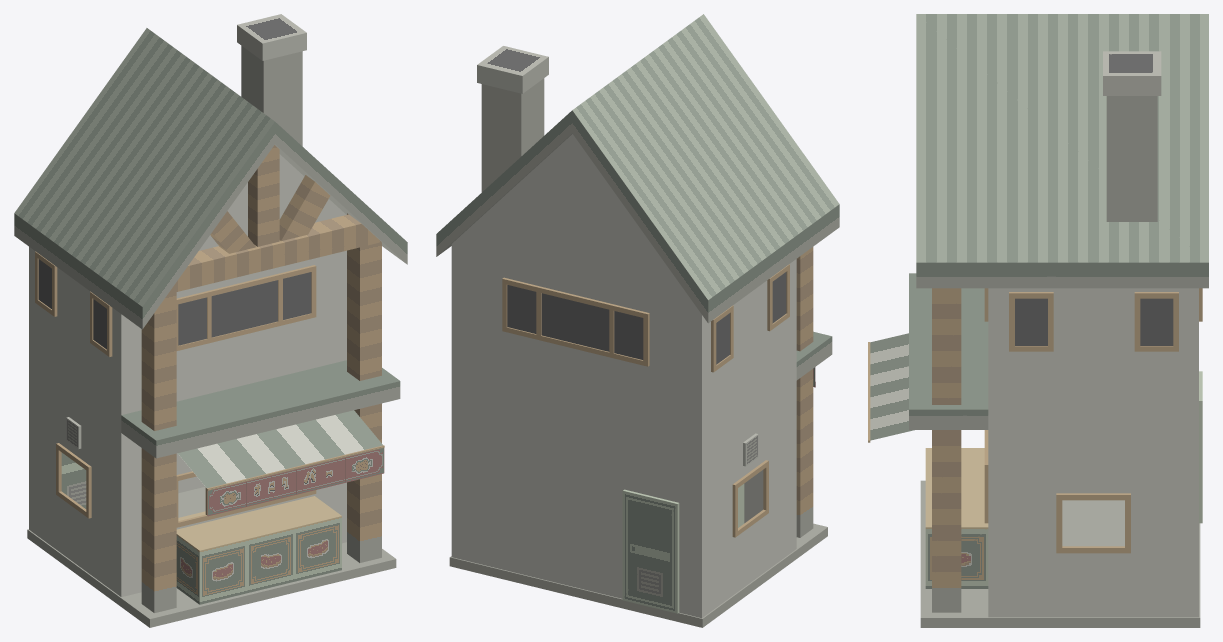
File: 02aa_Butcher_Shop.glb
3 views of the same model, side by side, from view 1: azimuth 30°, elevation 25°; view 2: azimuth 150°, elevation 25°; view 3: azimuth 270°, elevation 25° (orthographic). The views are drawn at different scales.
Visible parts, largest first — view 1: part_0; view 2: part_0; view 3: part_0.
Part boxes in pixels (box(x1,y1,x2,y2)): part_0: box(14, 14, 407, 627); part_0: box(436, 14, 839, 627); part_0: box(868, 14, 1208, 627).
Size of the model in its own units: 4.78 by 8.24 by 4.66.
Materials: 1 (1 with a texture image).
